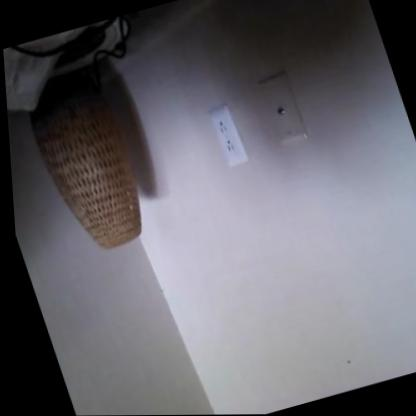OUTLET: (208, 104, 248, 168)
